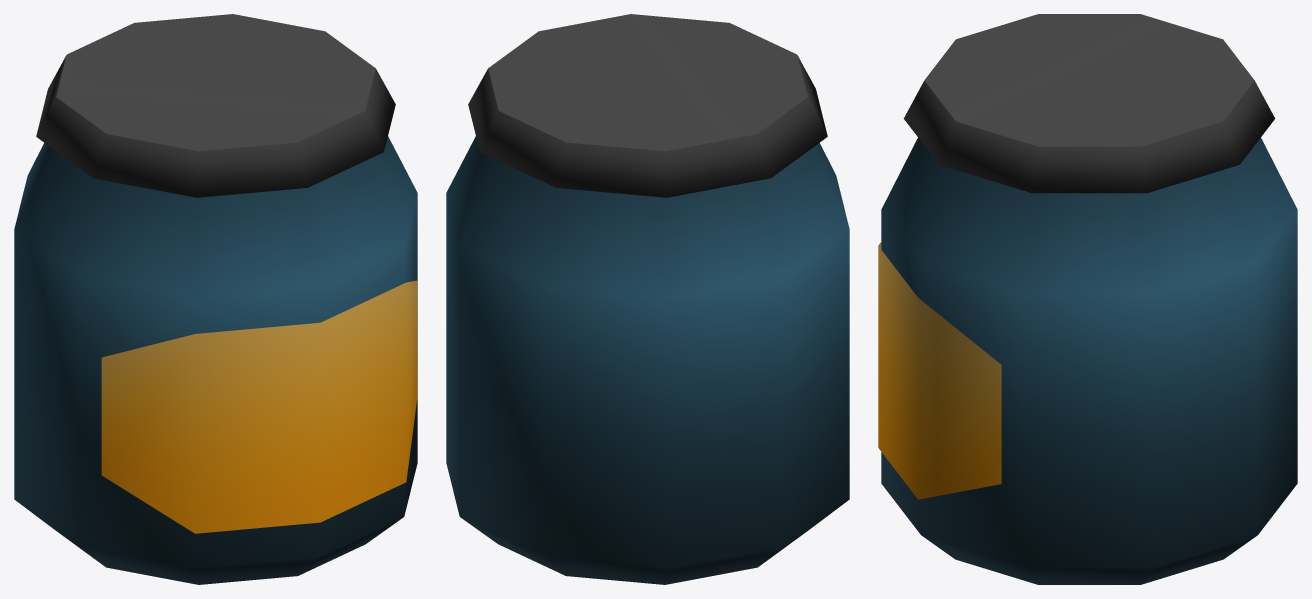
File: TSP_Jar_01D.fbx
3 views of the same model, side by side, from view 1: azimuth 30°, elevation 25°; view 2: azimuth 150°, elevation 25°; view 3: azimuth 270°, elevation 25° (orthographic).
Visible parts, largest first — view 1: TSP_Jar_01D; view 2: TSP_Jar_01D; view 3: TSP_Jar_01D.
Boxes of the visible parts, <box> form: TSP_Jar_01D: <box>14,14,417,584</box>; TSP_Jar_01D: <box>446,14,849,584</box>; TSP_Jar_01D: <box>878,14,1297,584</box>.
Bounding box in the file's own units: 0.2075 × 0.2531 × 0.2197.
